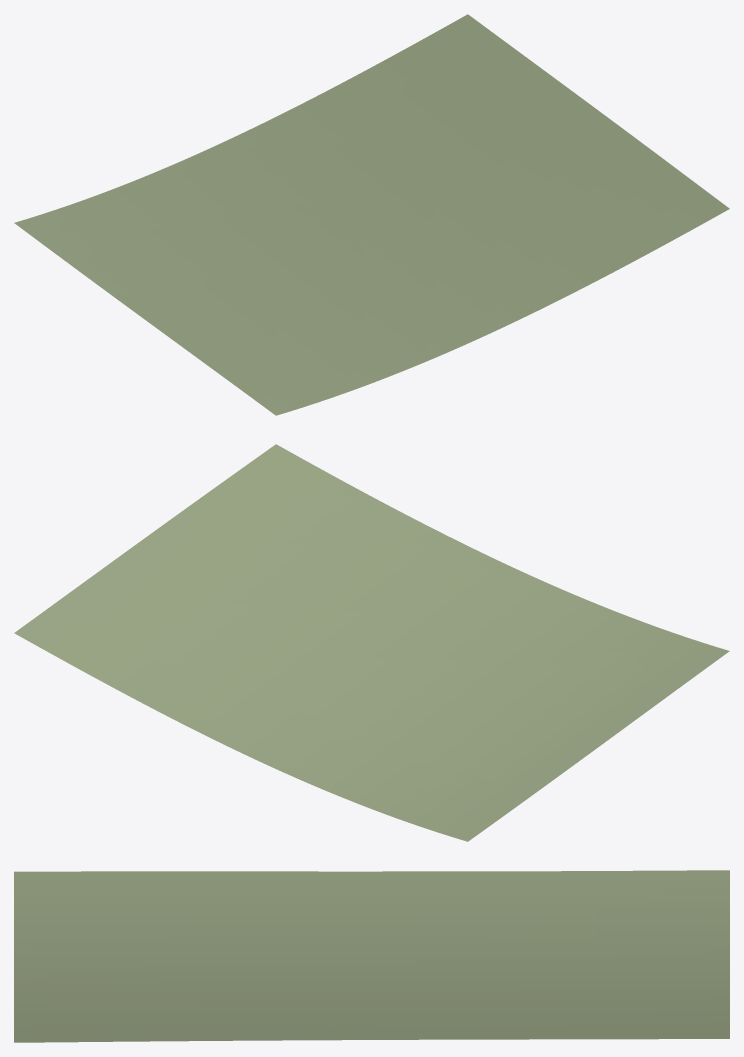
File: desert-22-0.glb
The picture shows the model from 3 angles, top to bottom: view 1: azimuth 30°, elevation 25°; view 2: azimuth 150°, elevation 25°; view 3: azimuth 270°, elevation 25°; orthographic projection. The views are drawn at different scales.
Visible parts, largest first — view 1: desert-22-0; view 2: desert-22-0; view 3: desert-22-0.
Part boxes in pixels (box(x1,y1,x2,y2)): desert-22-0: box(14, 14, 729, 415); desert-22-0: box(14, 444, 729, 841); desert-22-0: box(14, 870, 729, 1042).
Size of the model in its own units: 512 by 107 by 512.
